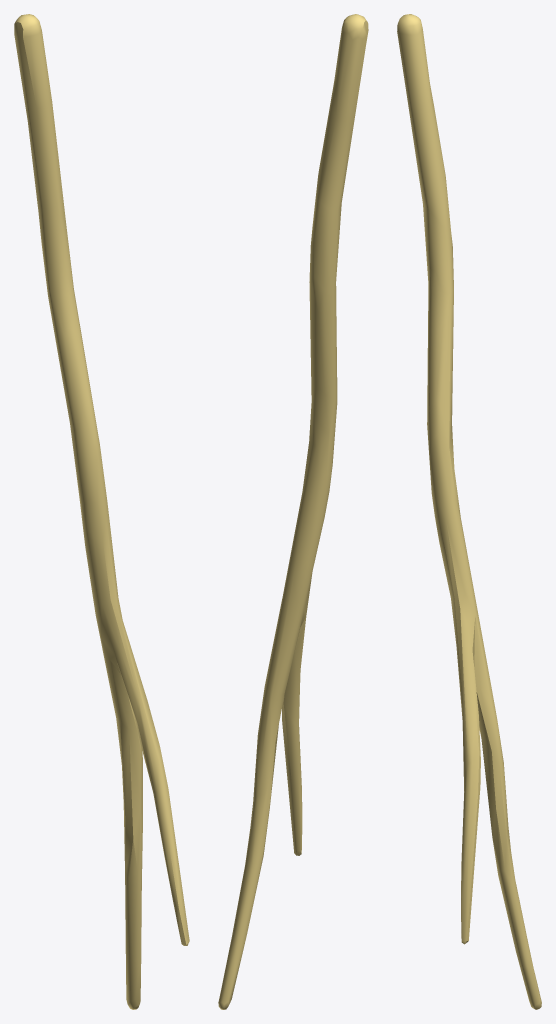
Rendered from fma52592_fj4014.glb.
The picture shows the model from 3 angles, left to right: view 1: azimuth 30°, elevation 25°; view 2: azimuth 150°, elevation 25°; view 3: azimuth 330°, elevation 25°; orthographic projection. The views are drawn at different scales.
Parts seen in each view (by area): view 1: FMA52592_FJ4014; view 2: FMA52592_FJ4014; view 3: FMA52592_FJ4014.
Boxes of the visible parts, x1,y1,x2,y2 form: FMA52592_FJ4014: [14, 14, 189, 1009]; FMA52592_FJ4014: [218, 14, 368, 1009]; FMA52592_FJ4014: [397, 14, 541, 1009].
Bounding box in the file's own units: 0.00329 × 0.0239 × 0.00291.
